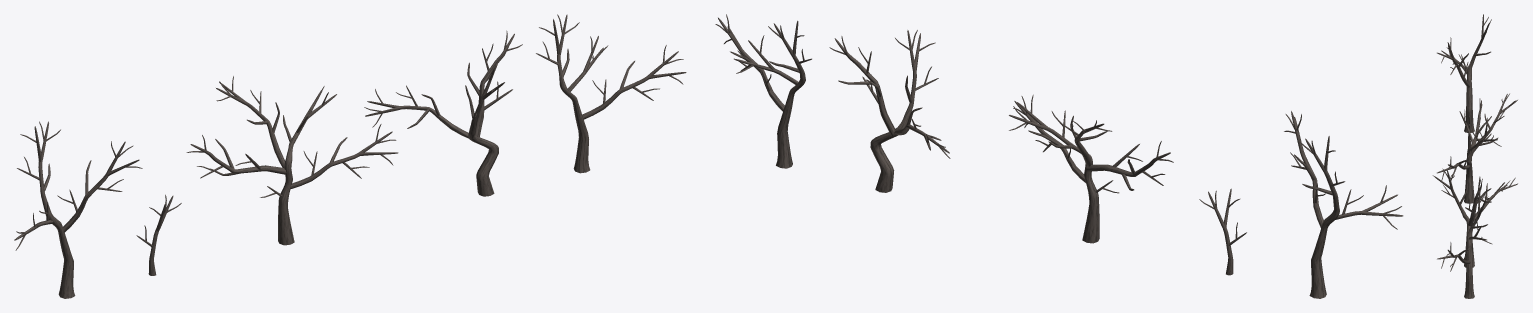
File: trees-transformed.glb
The picture shows the model from 3 angles, left to right: view 1: azimuth 30°, elevation 25°; view 2: azimuth 150°, elevation 25°; view 3: azimuth 270°, elevation 25°; orthographic projection. The views are drawn at different scales.
Visible parts, largest first — view 1: DeadTree_8, DeadTree_7, DeadTree_6, DeadTree_10, DeadTree_9; view 2: DeadTree_8, DeadTree_7, DeadTree_10, DeadTree_6, DeadTree_9; view 3: DeadTree_8, DeadTree_10, DeadTree_7, DeadTree_6, DeadTree_9.
Boxes of the visible parts, box(x1,y1,x2,y2) form: DeadTree_8: box(186, 76, 398, 245); DeadTree_7: box(364, 30, 522, 196); DeadTree_6: box(536, 14, 686, 173); DeadTree_10: box(14, 121, 142, 298); DeadTree_9: box(136, 194, 181, 275); DeadTree_8: box(1009, 94, 1173, 243); DeadTree_7: box(829, 30, 950, 192); DeadTree_10: box(1284, 111, 1403, 298); DeadTree_6: box(715, 14, 811, 168); DeadTree_9: box(1199, 188, 1246, 275); DeadTree_8: box(1437, 93, 1517, 203); DeadTree_10: box(1437, 14, 1491, 132); DeadTree_7: box(1432, 168, 1517, 267); DeadTree_6: box(1437, 191, 1492, 298); DeadTree_9: box(1459, 109, 1470, 149).
Size of the model in its own units: 29.75 by 7.13 by 5.03.
Materials: 1 (1 with a texture image).
